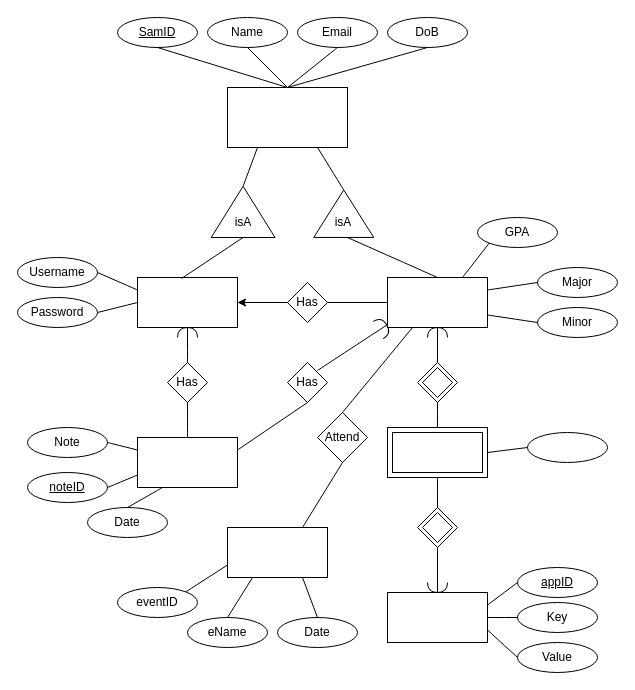
The diagram is 635 pixels wide and 690 high, and some of its shapes have lost their labels. The shapes that lost their labels are listed below. From the top down, each one's centre as x and y in pixels, then its label:
At point 287,117: "Person".
At point 187,302: "Mentor".
At point 437,302: "Student".
At point 187,462: "Notes".
At point 437,452: "Application".
At point 567,447: "joinDate".
At point 277,552: "Event".
At point 437,617: "Application Info".
